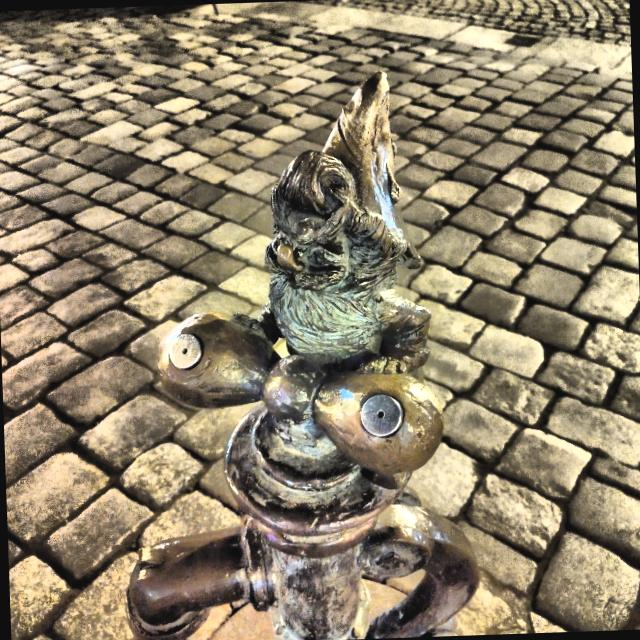Orzezwiacz: (126, 73, 481, 640)
